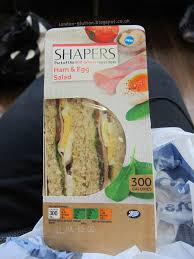sandwich: (29, 19, 168, 259)
